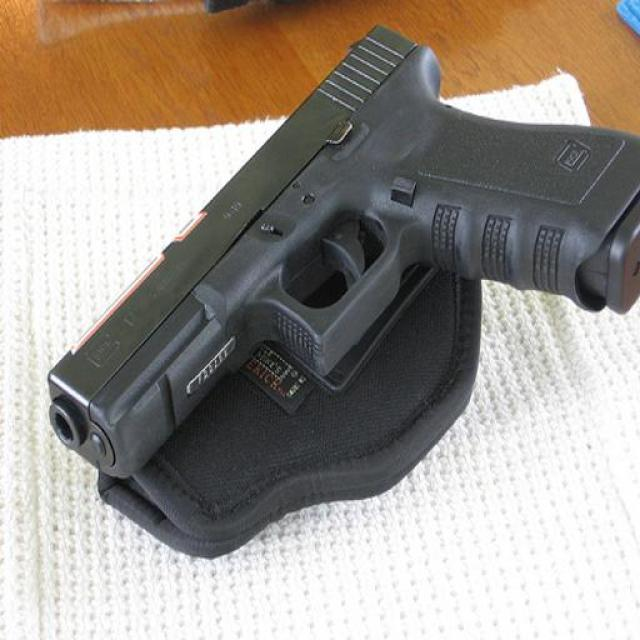pistol: (44, 25, 640, 477)
